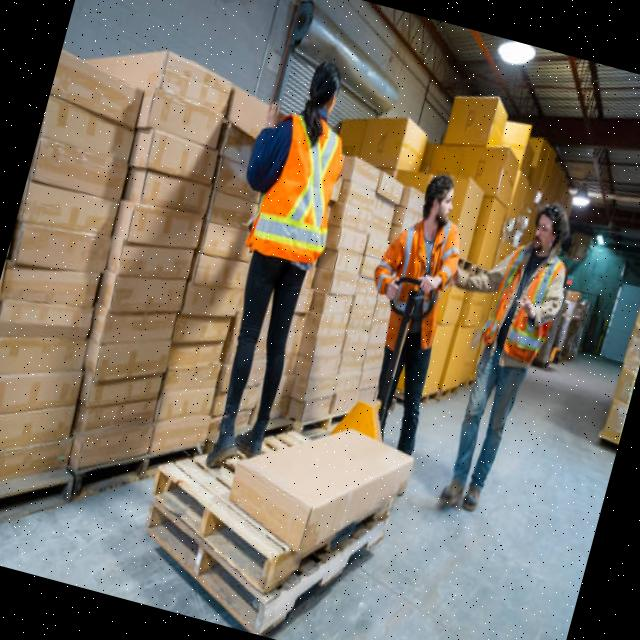Wooden-Pallets: (135, 491, 387, 632), (146, 452, 282, 604)
